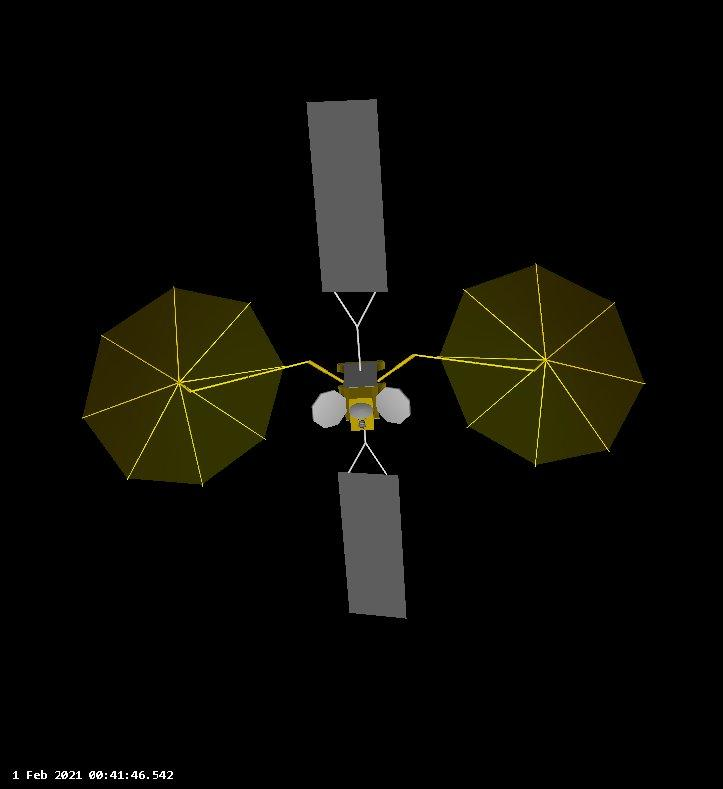antenna: (437, 261, 649, 471), (79, 284, 286, 490), (374, 385, 415, 427), (309, 388, 349, 430), (347, 401, 375, 421)
body: (335, 358, 389, 434)
solar: (304, 96, 391, 294), (336, 470, 410, 621)
